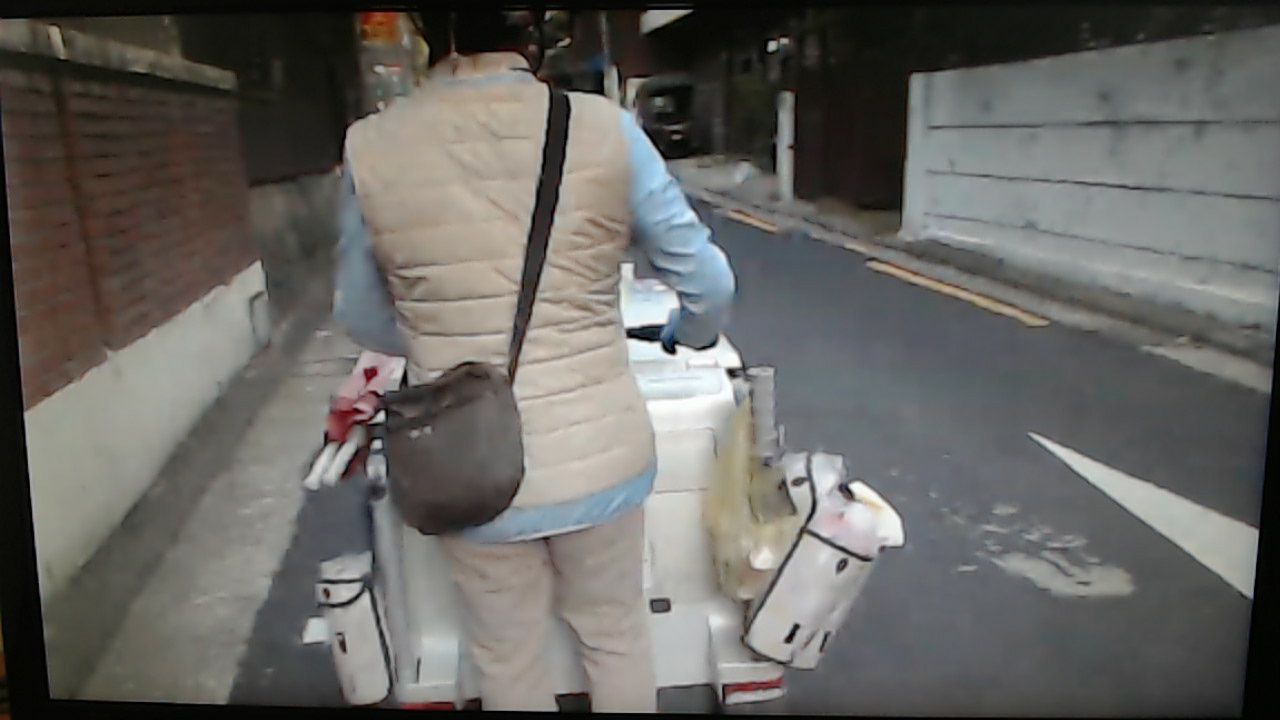Yakurut: (316, 9, 751, 712)
